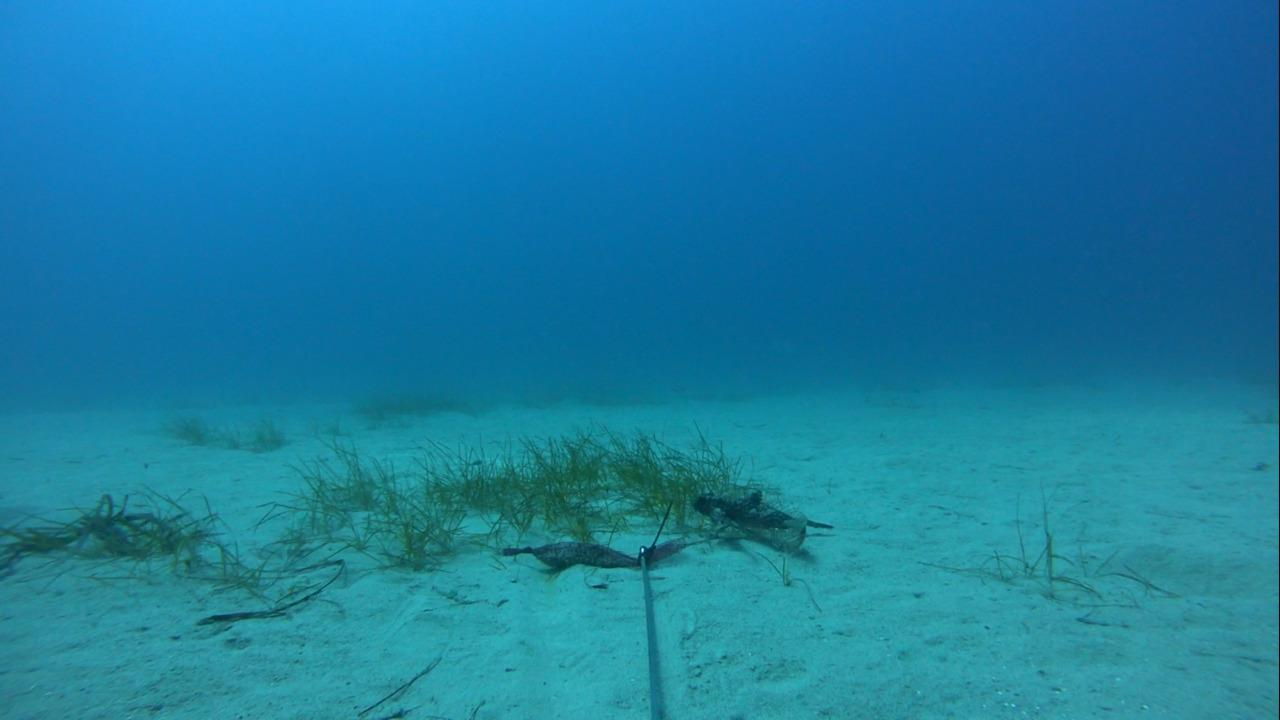dactylopterus: (682, 480, 838, 561)
